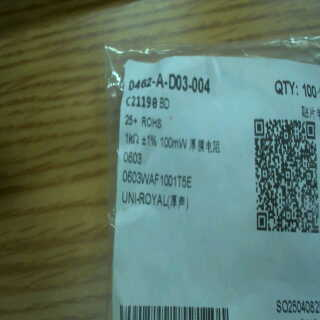1kR: (120, 131, 140, 147)
